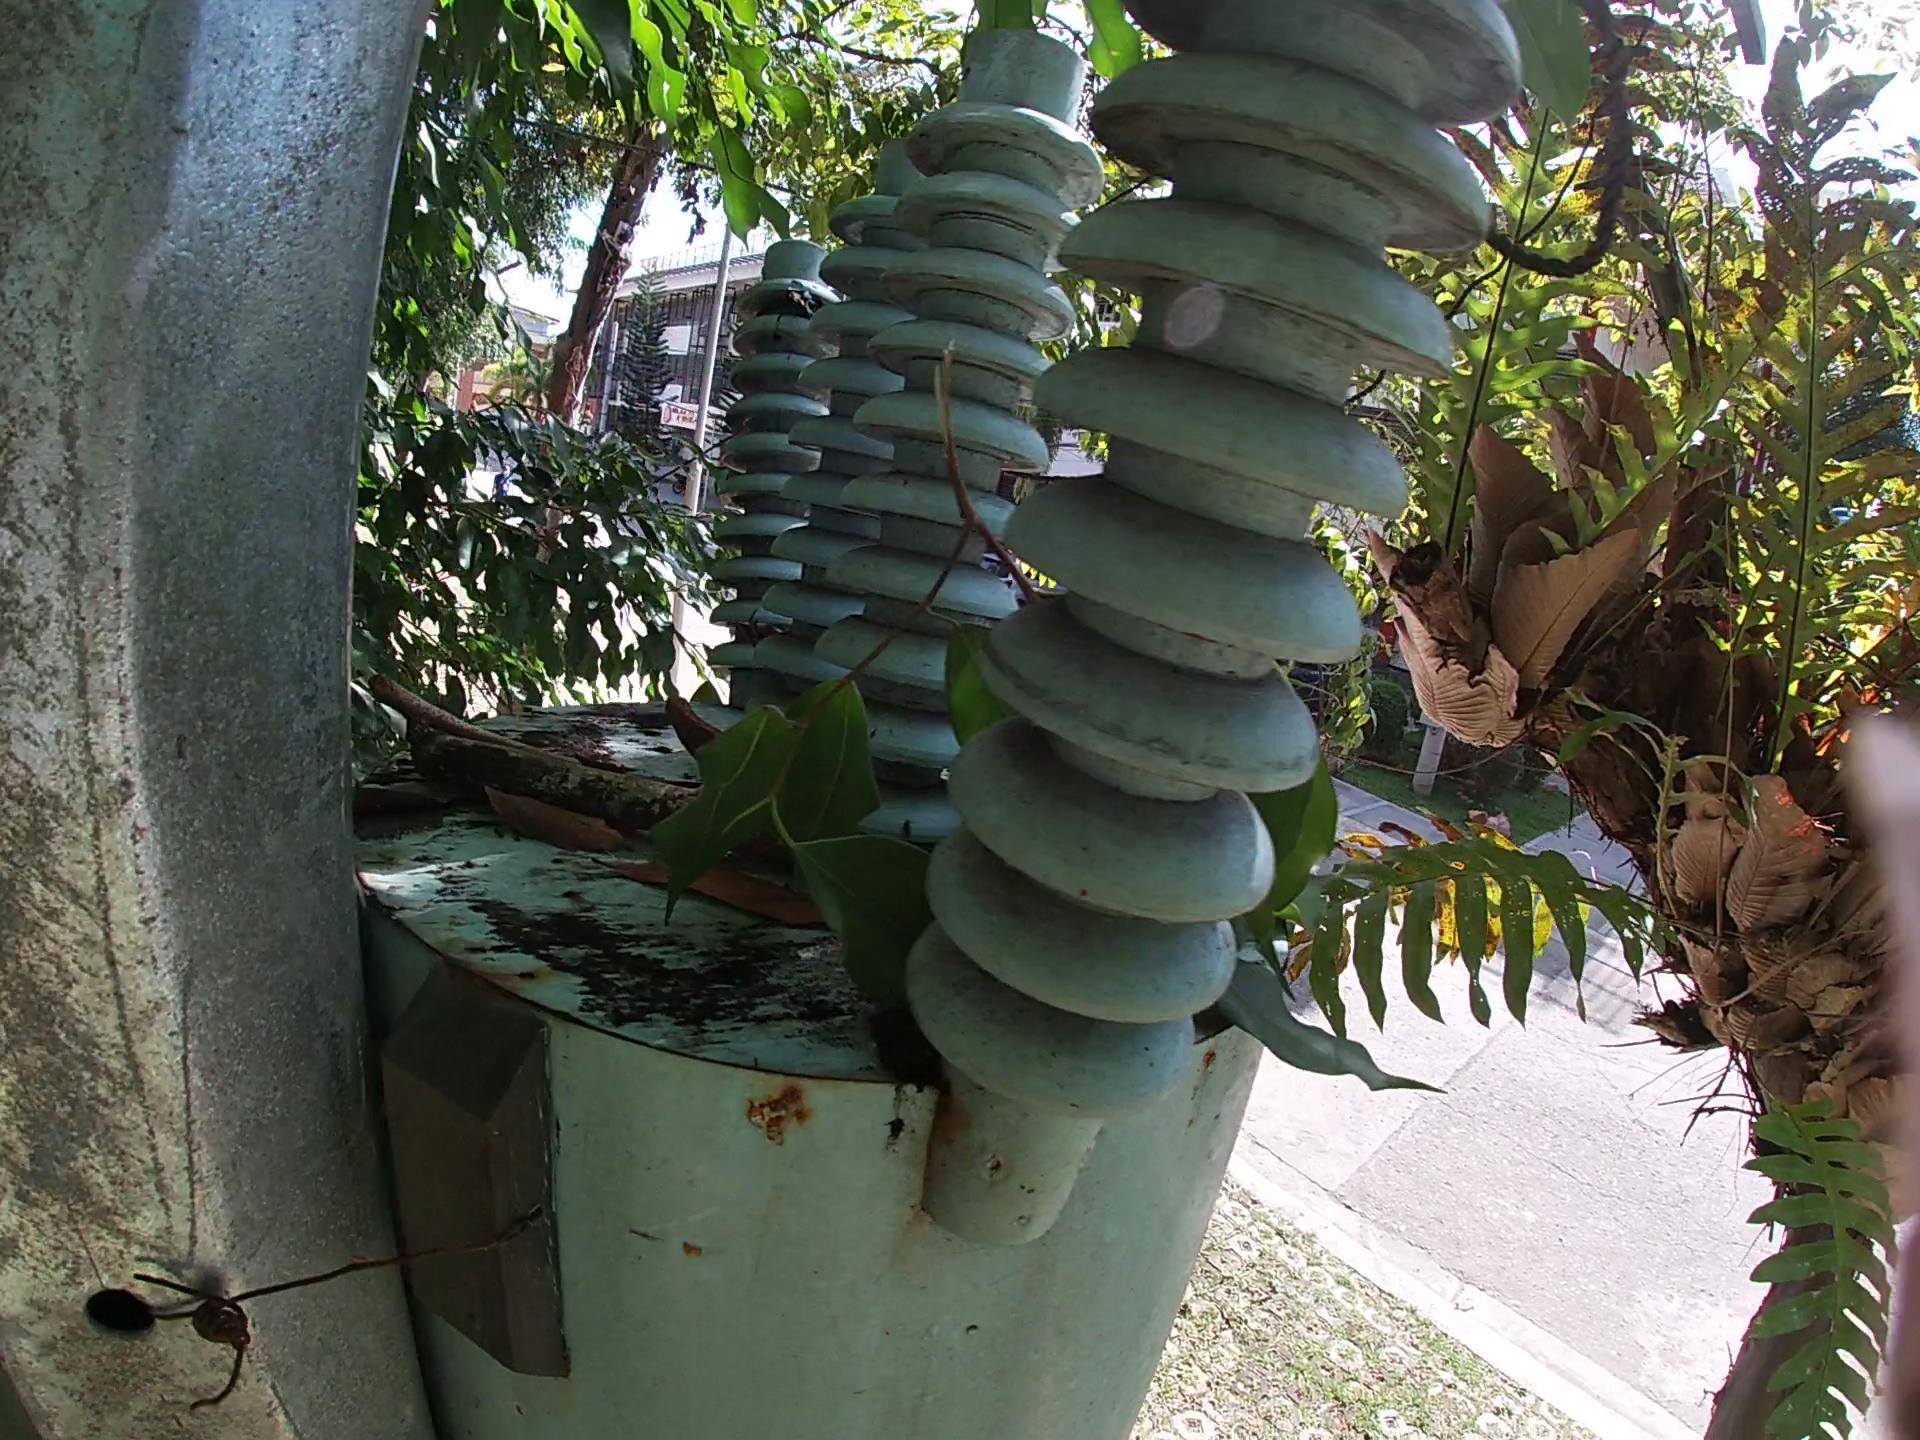branch with leaves: (658, 284, 1045, 1078)
leaf: (1234, 756, 1451, 1109), (608, 852, 803, 929), (343, 750, 435, 824), (491, 787, 608, 843)
mahogany fruit: (671, 688, 724, 774)
tree branch: (407, 734, 723, 817), (372, 682, 587, 761)
